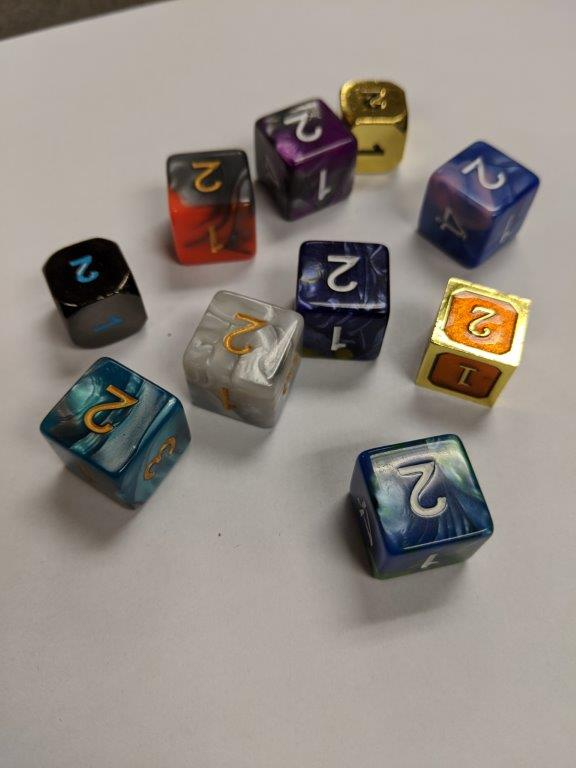d6-2: (41, 356, 194, 515), (353, 431, 497, 579), (184, 288, 303, 431), (411, 276, 530, 408), (419, 143, 539, 263), (42, 235, 152, 349), (255, 96, 358, 217), (164, 149, 262, 269), (295, 238, 389, 362), (340, 77, 407, 179)
